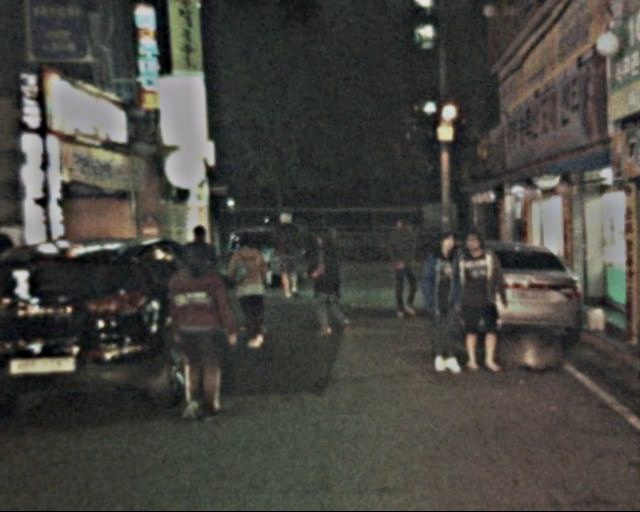person: (168, 249, 237, 417), (449, 233, 507, 374), (419, 232, 476, 372), (177, 225, 229, 335), (225, 234, 275, 345), (385, 217, 428, 318), (309, 228, 350, 332), (270, 212, 306, 299)
